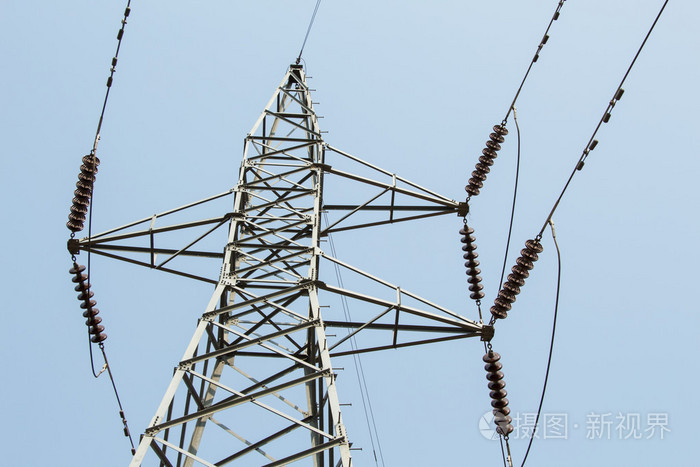insulator: (493, 238, 544, 320), (70, 264, 124, 330), (466, 123, 508, 198), (482, 351, 513, 436), (69, 156, 98, 234), (459, 225, 483, 301)
